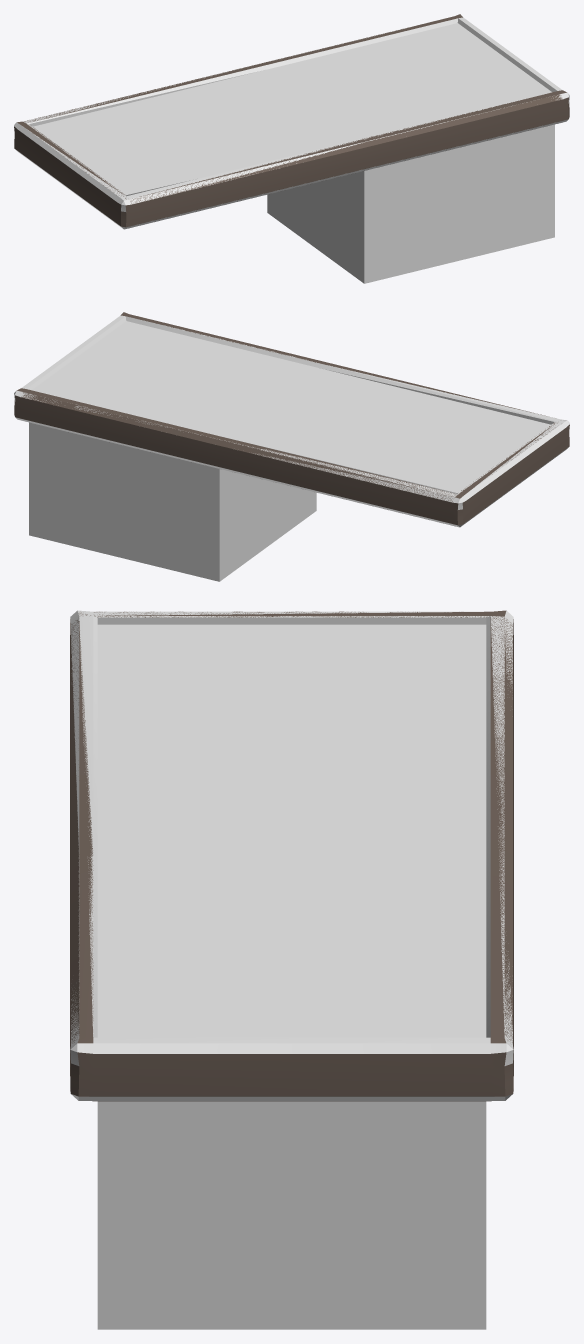
File: Cash_Register.fbx
3 views of the same model, one above another, from view 1: azimuth 30°, elevation 25°; view 2: azimuth 150°, elevation 25°; view 3: azimuth 270°, elevation 25° (orthographic). The views are drawn at different scales.
Parts seen in each view (by area): view 1: UTM_Сash register, Сash register; view 2: UTM_Сash register, Сash register; view 3: UTM_Сash register, Сash register.
Boxes of the visible parts, x1,y1,x2,y2 form: UTM_Сash register: (14,15,569,283); Сash register: (14,14,569,227); UTM_Сash register: (14,313,569,581); Сash register: (14,312,569,525); UTM_Сash register: (70,610,513,1329); Сash register: (70,610,513,1101).
Size of the model in its own units: 340 by 106 by 146.
